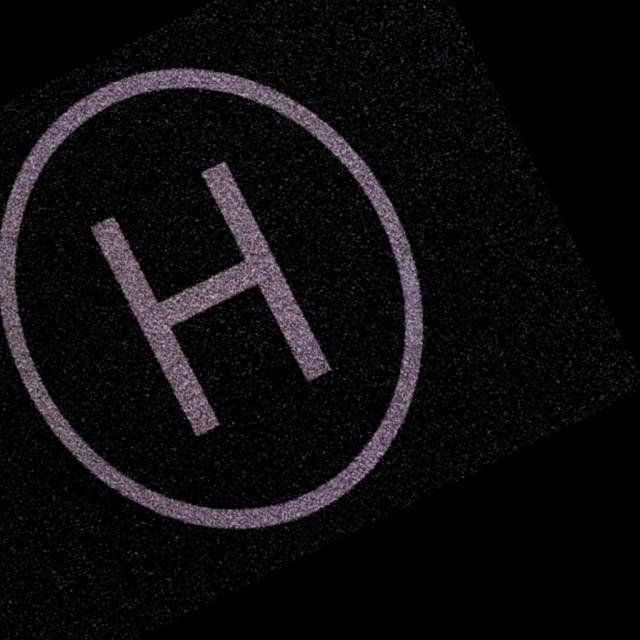helipad: (0, 61, 432, 536)
